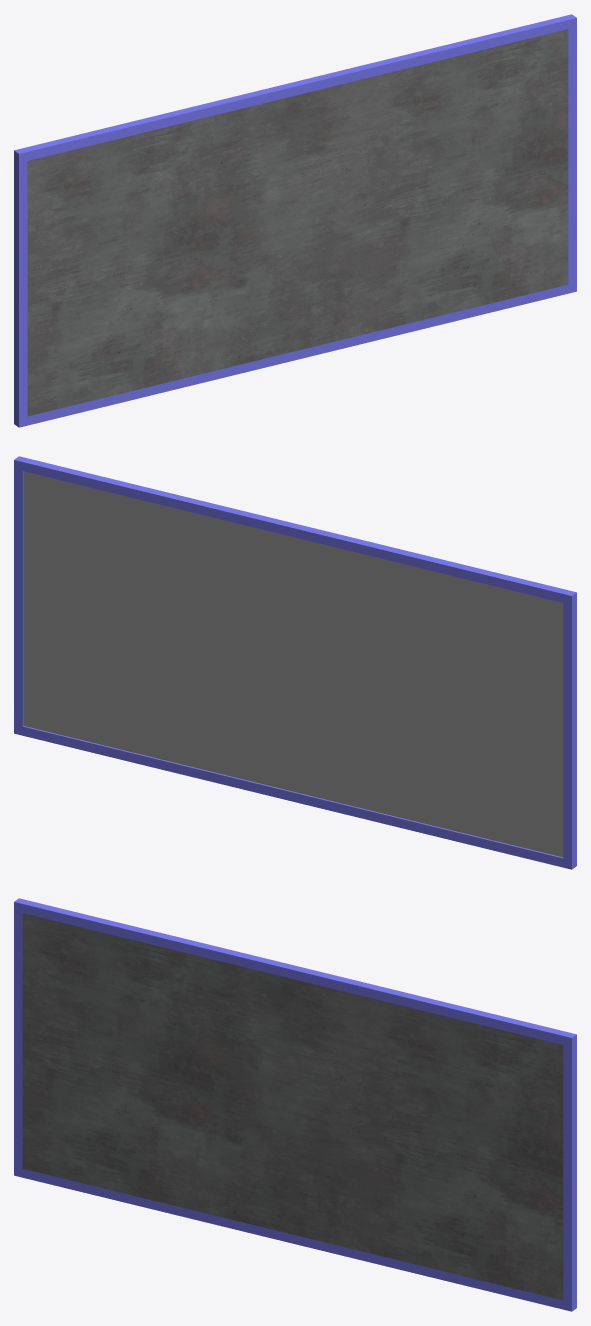
Rendered from mr009mirror003s001.fbx.
The picture shows the model from 3 angles, top to bottom: view 1: azimuth 30°, elevation 25°; view 2: azimuth 150°, elevation 25°; view 3: azimuth 330°, elevation 25°; orthographic projection.
Parts seen in each view (by area): view 1: mr009mirror003s001op01; view 2: mr009mirror003s001op02, mr009mirror003s001op01; view 3: mr009mirror003s001op01.
Part boxes in pixels (<box>): mr009mirror003s001op01: <box>14,14,576,427</box>; mr009mirror003s001op02: <box>23,471,563,857</box>; mr009mirror003s001op01: <box>14,456,576,869</box>; mr009mirror003s001op01: <box>14,898,576,1311</box>.
Bounding box in the file's own units: 400 × 188 × 6.25.
